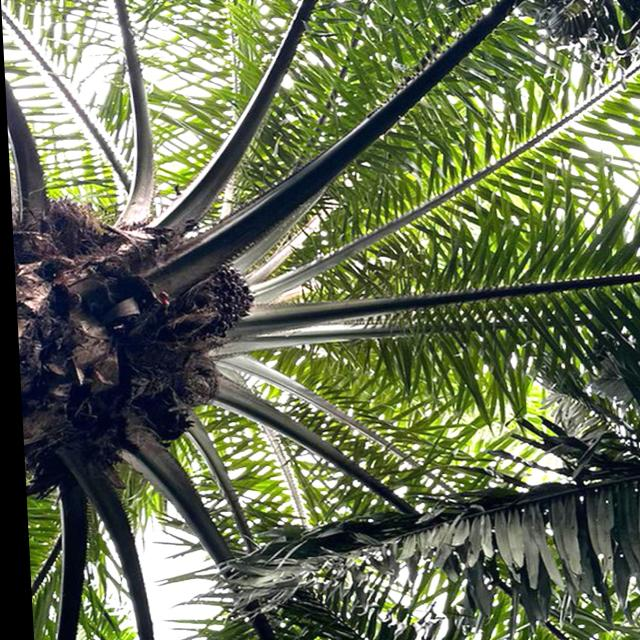ripe: (179, 261, 265, 342)
